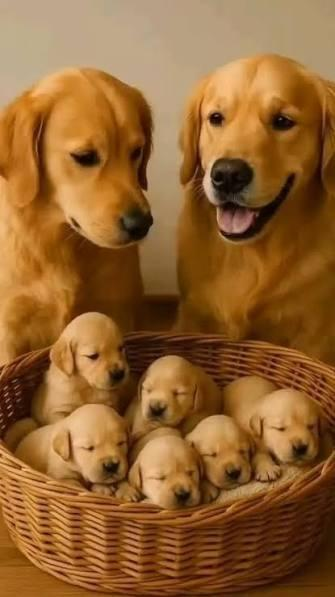adult_dog: (175, 54, 335, 366), (0, 66, 155, 370)
puppy-dog: (4, 311, 144, 449), (9, 406, 128, 500), (223, 376, 325, 483), (129, 355, 219, 440), (185, 413, 256, 504), (130, 430, 204, 510)
